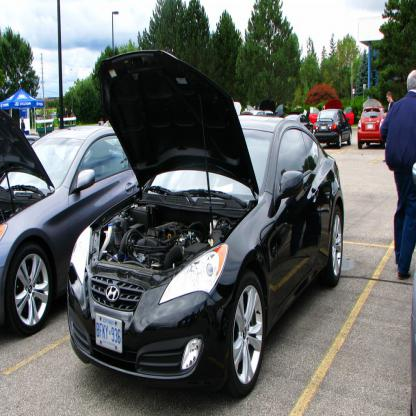Car: (66, 48, 345, 399), (0, 108, 138, 338), (241, 99, 355, 146), (358, 105, 388, 148)
